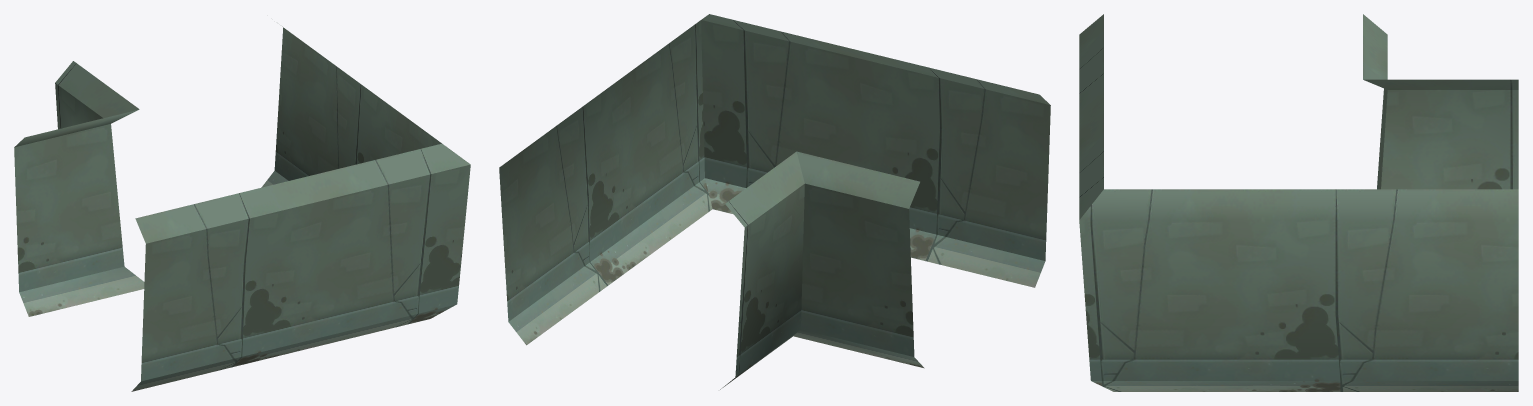
The model's file is Combined_Mesh_root_scene__21_87b8b529__zombies2_diffuse_01_1cd6861e_c1f257.obj.
3 views of the same model, side by side, from view 1: azimuth 30°, elevation 25°; view 2: azimuth 150°, elevation 25°; view 3: azimuth 270°, elevation 25° (orthographic). The views are drawn at different scales.
Size of the model in its own units: 15.41 by 8 by 15.41.
1 material, 1 textured.
